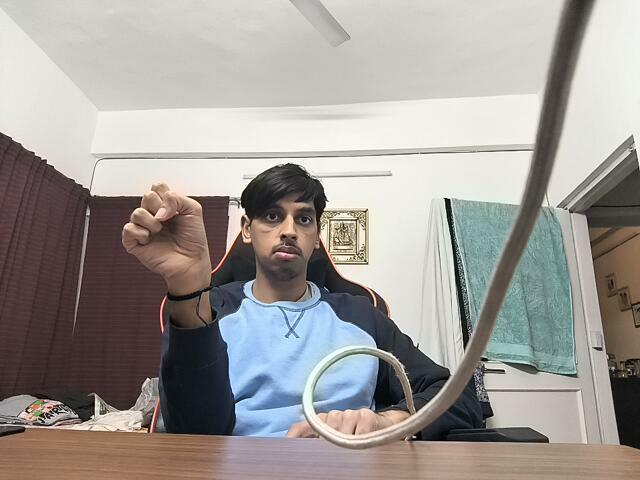DOWN: (116, 178, 225, 295)
